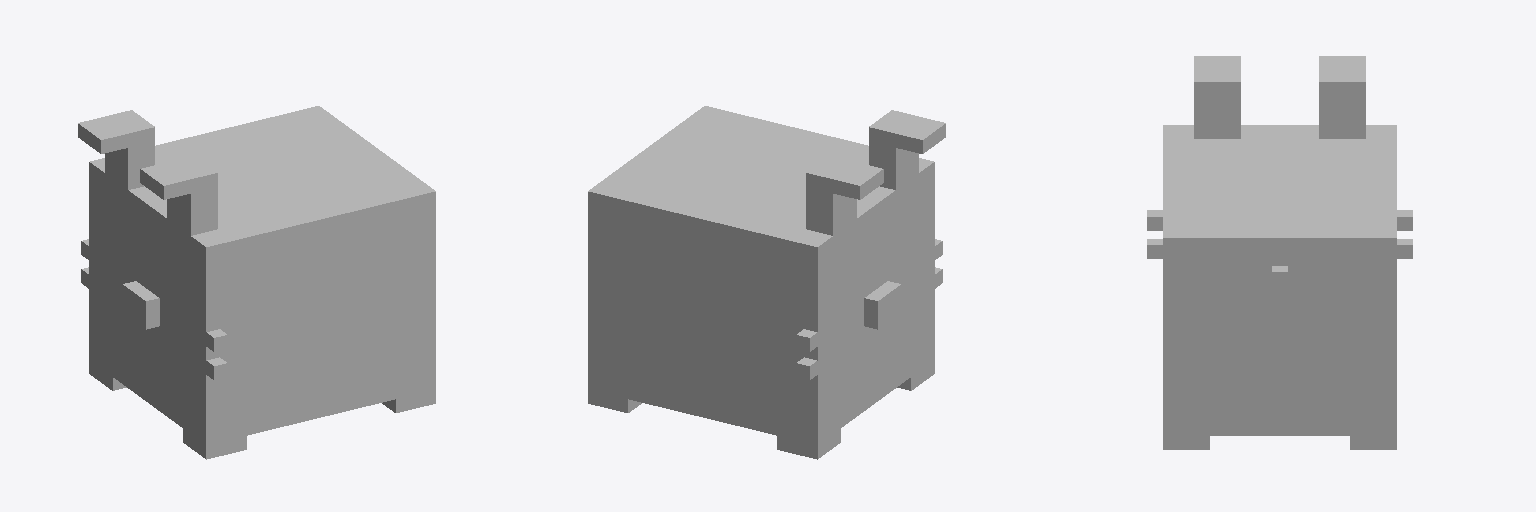
The model's file is rabbit.obj.
3 views of the same model, side by side, from view 1: azimuth 30°, elevation 25°; view 2: azimuth 150°, elevation 25°; view 3: azimuth 270°, elevation 25° (orthographic).
Visible parts, largest first — view 1: object 1; view 2: object 1; view 3: object 1.
Boxes of the visible parts, box(x1,y1,x2,y2) form: object 1: box(78, 106, 435, 459); object 1: box(588, 106, 945, 459); object 1: box(1147, 56, 1412, 449).
Size of the model in its own units: 2 by 1.9 by 1.7.